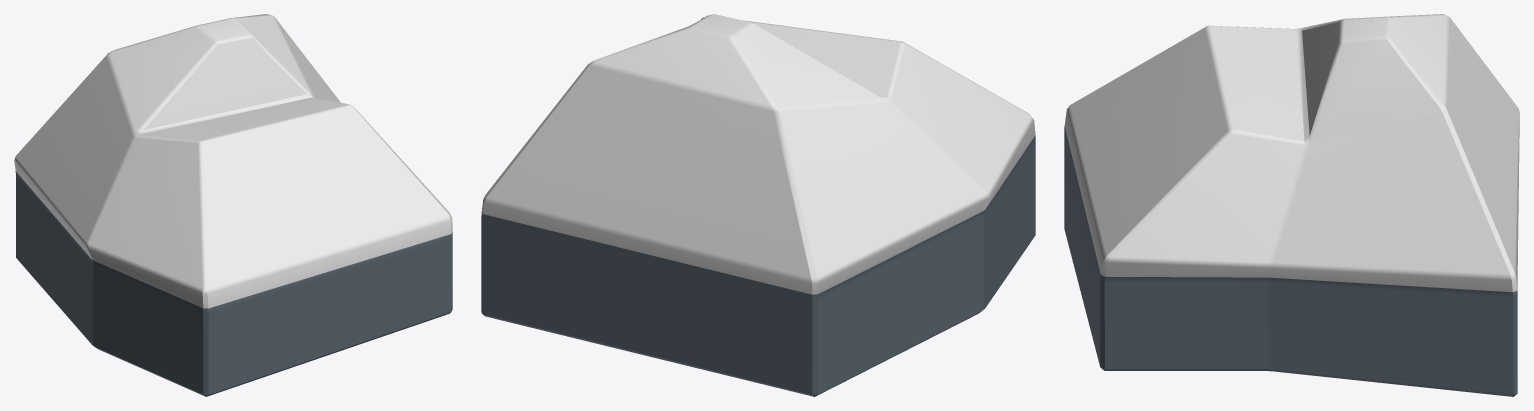
Rendered from Rock_1 with Snow.fbx.
The picture shows the model from 3 angles, left to right: view 1: azimuth 30°, elevation 25°; view 2: azimuth 150°, elevation 25°; view 3: azimuth 270°, elevation 25°; orthographic projection. The views are drawn at different scales.
Parts seen in each view (by area): view 1: rock_1_with_snow; view 2: rock_1_with_snow; view 3: rock_1_with_snow.
Part boxes in pixels (x1,y1,x2,y2): rock_1_with_snow: (14,14,452,396); rock_1_with_snow: (481,14,1035,396); rock_1_with_snow: (1064,14,1519,396).
Bounding box in the file's own units: 1.45 × 1.02 × 1.46.
